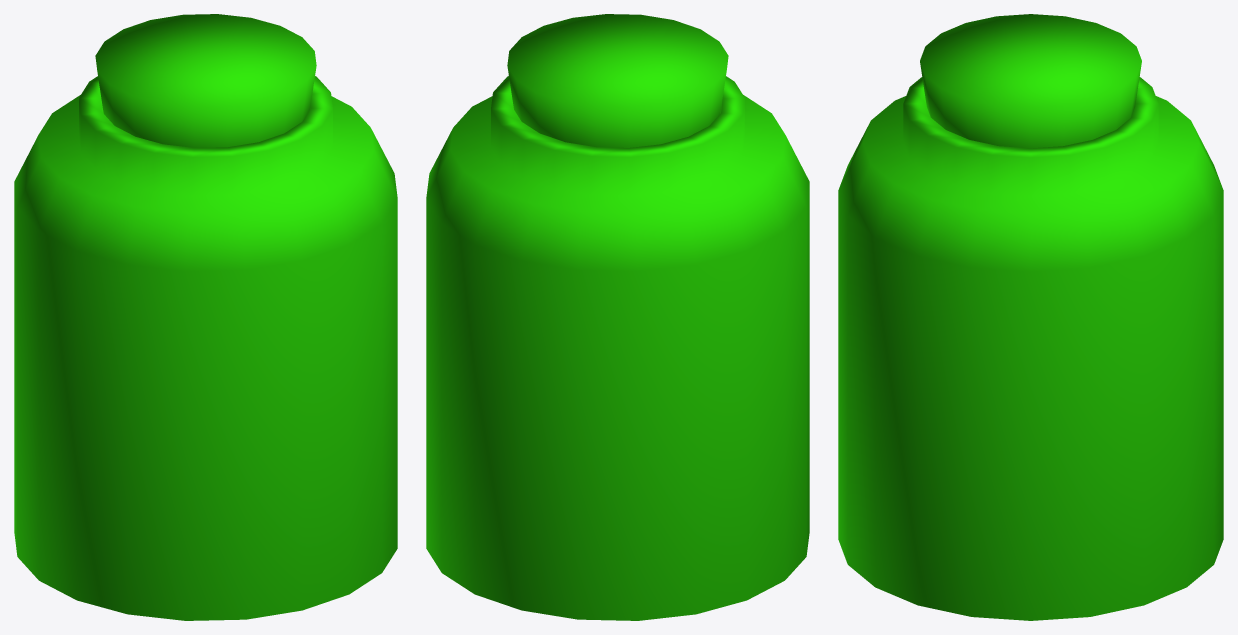
The model's file is Pot_01.fbx.
The picture shows the model from 3 angles, left to right: view 1: azimuth 30°, elevation 25°; view 2: azimuth 150°, elevation 25°; view 3: azimuth 270°, elevation 25°; orthographic projection.
Visible parts, largest first — view 1: Pot_01; view 2: Pot_01; view 3: Pot_01.
Boxes of the visible parts, x1,y1,x2,y2 form: Pot_01: (14,14,397,620); Pot_01: (426,14,809,620); Pot_01: (838,14,1223,620).
Size of the model in its own units: 19.58 by 26.85 by 19.59.
